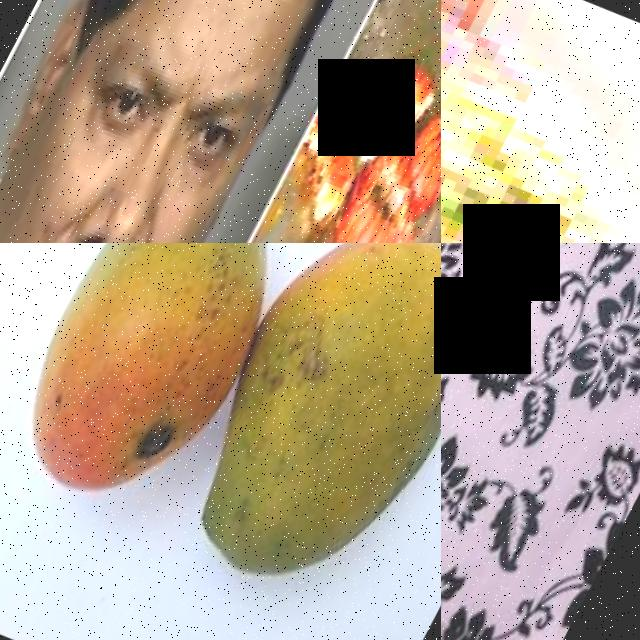lobster tails: (441, 0, 640, 243), (315, 176, 419, 243), (390, 128, 441, 225)
mango: (153, 243, 441, 640), (0, 243, 327, 546)
